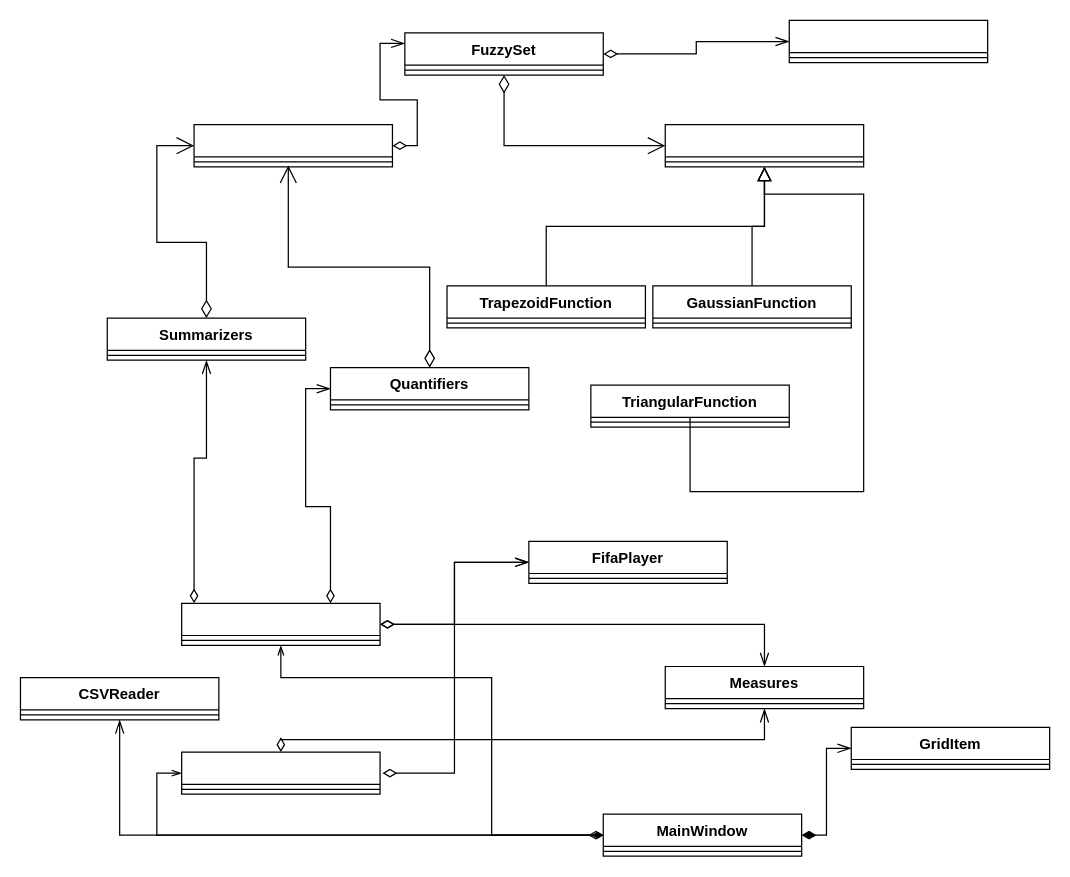
This 1070x877 diagram has some shape labels left out. The shapes that lost their labels are listed below. From the top down, each one's centre as x and y in pixels, then its label:
At [888,41]: "ValueGetter".
At [292,145]: "LinguisticVariable".
At [764,145]: "IMembershipFunction".
At [280,623]: "OneSubjectSummaries".
At [280,772]: "TwoSubjectSummaries".
